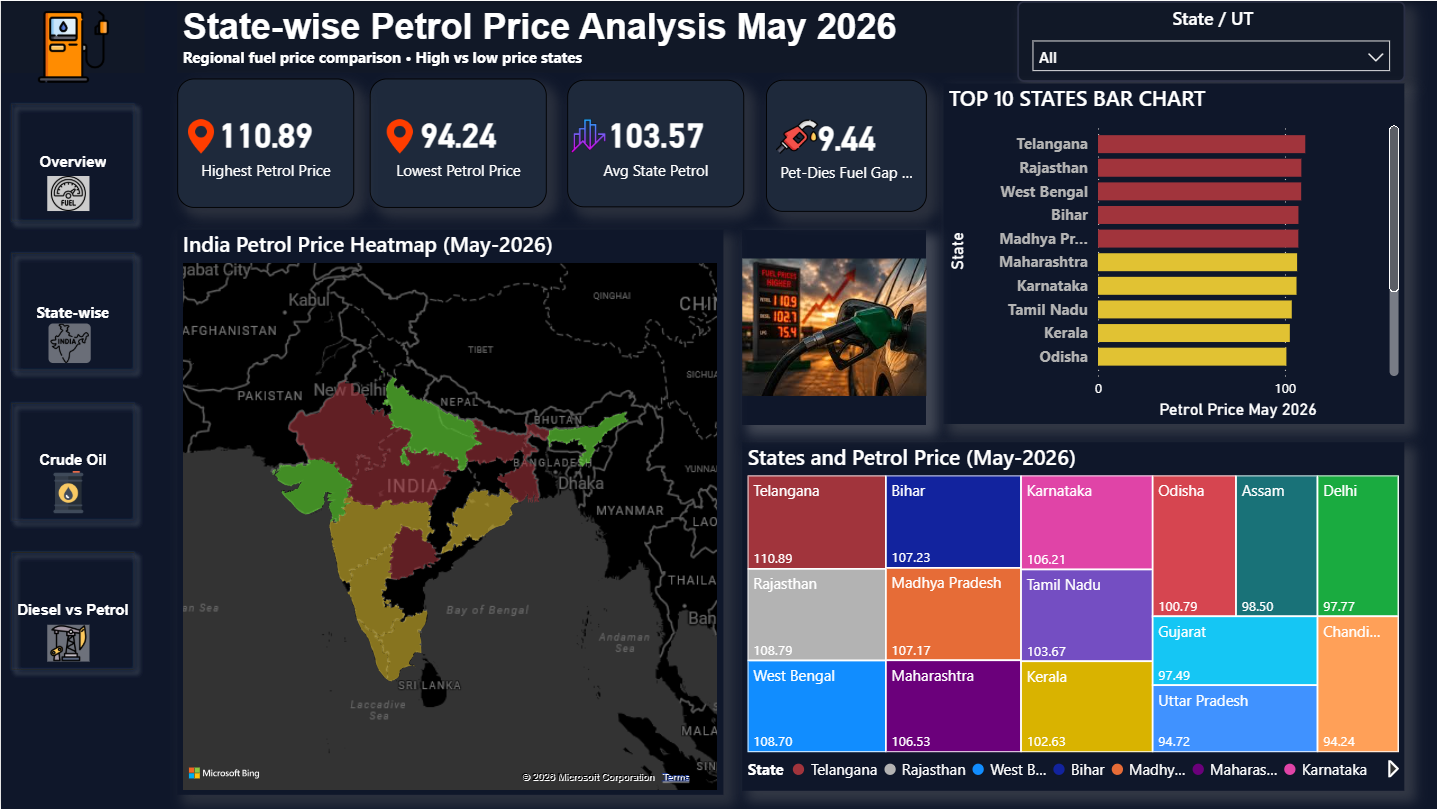

What the dashboard file says about the page in this screenshot:
{"tool":"powerbi","page":{"name":"State-wise ","canvas":[1280,720],"ordinal":1},"visuals":[{"type":"shape","box":[0,0,127.9,64],"z":0},{"type":"textbox","box":[157,0,747.7,64],"z":1000},{"type":"pageNavigator","box":[0,82.5,128.8,523.8],"z":2000},{"type":"image","box":[0,8.8,128.8,63.8],"z":3000},{"type":"card","fields":{"Values":["3  State-wise Prices.Avg State Petrol"]},"box":[503.8,69.8,157.5,113.8],"z":4000},{"type":"card","fields":{"Values":["1  Yearly Trends.Lowest Petrol Price"]},"box":[328.8,68.5,157.5,115],"z":5000},{"type":"card","fields":{"Values":["1  Yearly Trends.Highest Petrol Price"]},"box":[157.5,68.5,157.5,115],"z":6000},{"type":"card","fields":{"Values":["1  Yearly Trends.Fuel Gap Avg"]},"box":[681.4,69.8,143,117.4],"z":7000},{"type":"image","box":[340,104.8,31.2,31.2],"z":8000},{"type":"image","box":[41.2,418.8,37.5,37.5],"z":9000},{"type":"image","box":[42.5,287.5,37.5,35],"z":10000},{"type":"image","box":[41.2,555,37.5,32.5],"z":11000},{"type":"image","box":[162.5,104.8,31.2,31.2],"z":12000},{"type":"image","box":[41.2,156.2,37.5,31.2],"z":13000},{"type":"image","box":[690,98.5,37.5,45],"z":14000},{"type":"image","box":[503.8,105,37.5,31.2],"z":15000},{"type":"slicer","title":"State / UT","fields":{"Values":["3  State-wise Prices.State"]},"box":[904.7,0,345.3,72.1],"z":16000},{"type":"filledMap","title":"India Petrol Price Heatmap (May-2026)","fields":{"Category":["3  State-wise Prices.State"]},"box":[157,203.5,486,503.5],"z":17000},{"type":"clusteredBarChart","title":"TOP 10 STATES BAR CHART","fields":{"Category":["3  State-wise Prices.State"],"Y":["Avg(3  State-wise Prices.Petrol May-2026)"]},"box":[839.5,73.3,410.5,303.5],"z":18000},{"type":"treemap","title":"States and Petrol Price (May-2026)","fields":{"Group":["3  State-wise Prices.State"],"Values":["Avg(3  State-wise Prices.Petrol May-2026)"]},"box":[660.5,393,589.5,310.5],"z":19000},{"type":"image","box":[660.5,203.5,164,173.3],"z":20000}]}

Visuals, with their boxes in screenshot pixels (x1, y1, x2, y2), scaled from the page's 1280x720 canvas onto the 1437x809 screenshot:
shape: (0, 0, 144, 72)
textbox: (176, 0, 1016, 72)
pageNavigator: (0, 93, 145, 681)
image: (0, 10, 145, 82)
card - 3  State-wise Prices.Avg State Petrol: (566, 78, 742, 206)
card - 1  Yearly Trends.Lowest Petrol Price: (369, 77, 546, 206)
card - 1  Yearly Trends.Highest Petrol Price: (177, 77, 354, 206)
card - 1  Yearly Trends.Fuel Gap Avg: (765, 78, 926, 210)
image: (382, 118, 417, 153)
image: (46, 471, 88, 513)
image: (48, 323, 90, 362)
image: (46, 624, 88, 660)
image: (182, 118, 217, 153)
image: (46, 176, 88, 211)
image: (775, 111, 817, 161)
image: (566, 118, 608, 153)
"State / UT" slicer: (1016, 0, 1403, 81)
"India Petrol Price Heatmap (May-2026)" filledMap: (176, 229, 722, 794)
"TOP 10 STATES BAR CHART" clusteredBarChart: (942, 82, 1403, 423)
"States and Petrol Price (May-2026)" treemap: (742, 442, 1403, 790)
image: (742, 229, 926, 423)
